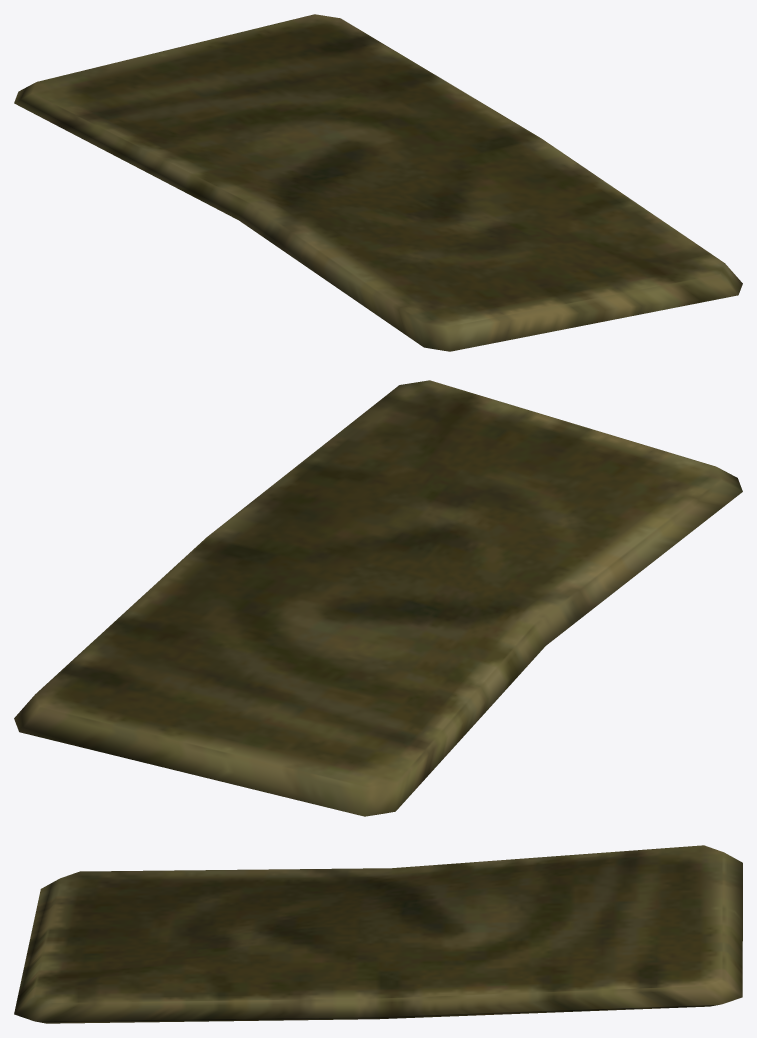
File: INST_MIRK_BEDROLL_3.fbx
3 renders of one model, top to bottom at view 1: azimuth 30°, elevation 25°; view 2: azimuth 150°, elevation 25°; view 3: azimuth 270°, elevation 25°, orthographic. The views are drawn at different scales.
Visible parts, largest first — view 1: INST_MIRK_BEDROLL_3; view 2: INST_MIRK_BEDROLL_3; view 3: INST_MIRK_BEDROLL_3.
Boxes of the visible parts, left/top/right/bottom form: INST_MIRK_BEDROLL_3: left=14, top=14, right=742, bottom=351; INST_MIRK_BEDROLL_3: left=14, top=380, right=742, bottom=816; INST_MIRK_BEDROLL_3: left=14, top=845, right=742, bottom=1023.
Size of the model in its own units: 12834 by 878 by 23874.
1 material, 1 textured.
